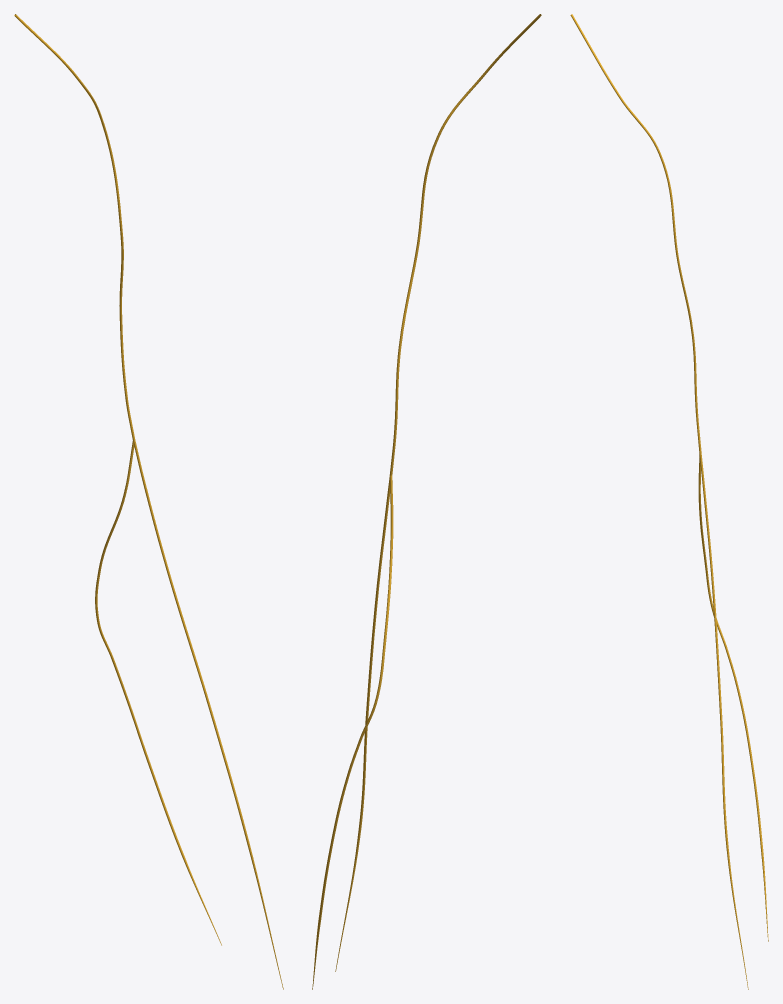
File: nervoso-medial-antebrachial-cutaneous-nerve-l.glb
3 renders of one model, left to right at view 1: azimuth 30°, elevation 25°; view 2: azimuth 150°, elevation 25°; view 3: azimuth 330°, elevation 25°, orthographic. The views are drawn at different scales.
Parts seen in each view (by area): view 1: Anterior branch of medial antebrachial cutaneous nerve.l, Posterior branch of medial antebrachial cutaneous nerve.l, Medial antebrachial cutaneous nerve.l; view 2: Posterior branch of medial antebrachial cutaneous nerve.l, Medial antebrachial cutaneous nerve.l, Anterior branch of medial antebrachial cutaneous nerve.l; view 3: Anterior branch of medial antebrachial cutaneous nerve.l, Medial antebrachial cutaneous nerve.l, Posterior branch of medial antebrachial cutaneous nerve.l.
Part boxes in pixels (x1,y1,x2,y2): Anterior branch of medial antebrachial cutaneous nerve.l: (134,440,283,989); Posterior branch of medial antebrachial cutaneous nerve.l: (95,441,221,945); Medial antebrachial cutaneous nerve.l: (14,14,135,440); Posterior branch of medial antebrachial cutaneous nerve.l: (312,475,393,989); Medial antebrachial cutaneous nerve.l: (389,14,541,475); Anterior branch of medial antebrachial cutaneous nerve.l: (335,475,390,971); Anterior branch of medial antebrachial cutaneous nerve.l: (699,453,748,989); Medial antebrachial cutaneous nerve.l: (570,14,701,453); Posterior branch of medial antebrachial cutaneous nerve.l: (698,454,768,941).
Bounding box in the file's own units: 0.1066 × 0.4381 × 0.0587.
